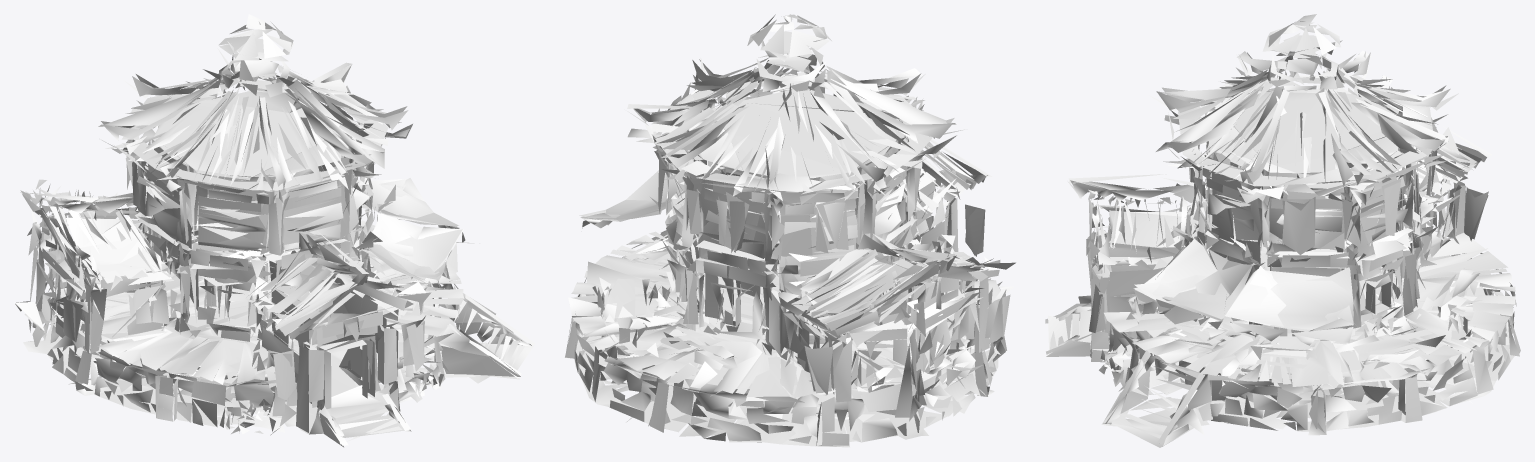
File: tavern_hall_lod2.glb
3 views of the same model, side by side, from view 1: azimuth 30°, elevation 25°; view 2: azimuth 150°, elevation 25°; view 3: azimuth 270°, elevation 25° (orthographic). The views are drawn at different scales.
Parts seen in each view (by area): view 1: tavern_hall; view 2: tavern_hall; view 3: tavern_hall.
Part boxes in pixels (x1,y1,x2,y2): tavern_hall: [14, 14, 535, 447]; tavern_hall: [564, 14, 1015, 447]; tavern_hall: [1045, 14, 1520, 447].
Size of the model in its own units: 17.23 by 14.02 by 17.14.
1 material, 1 textured.
